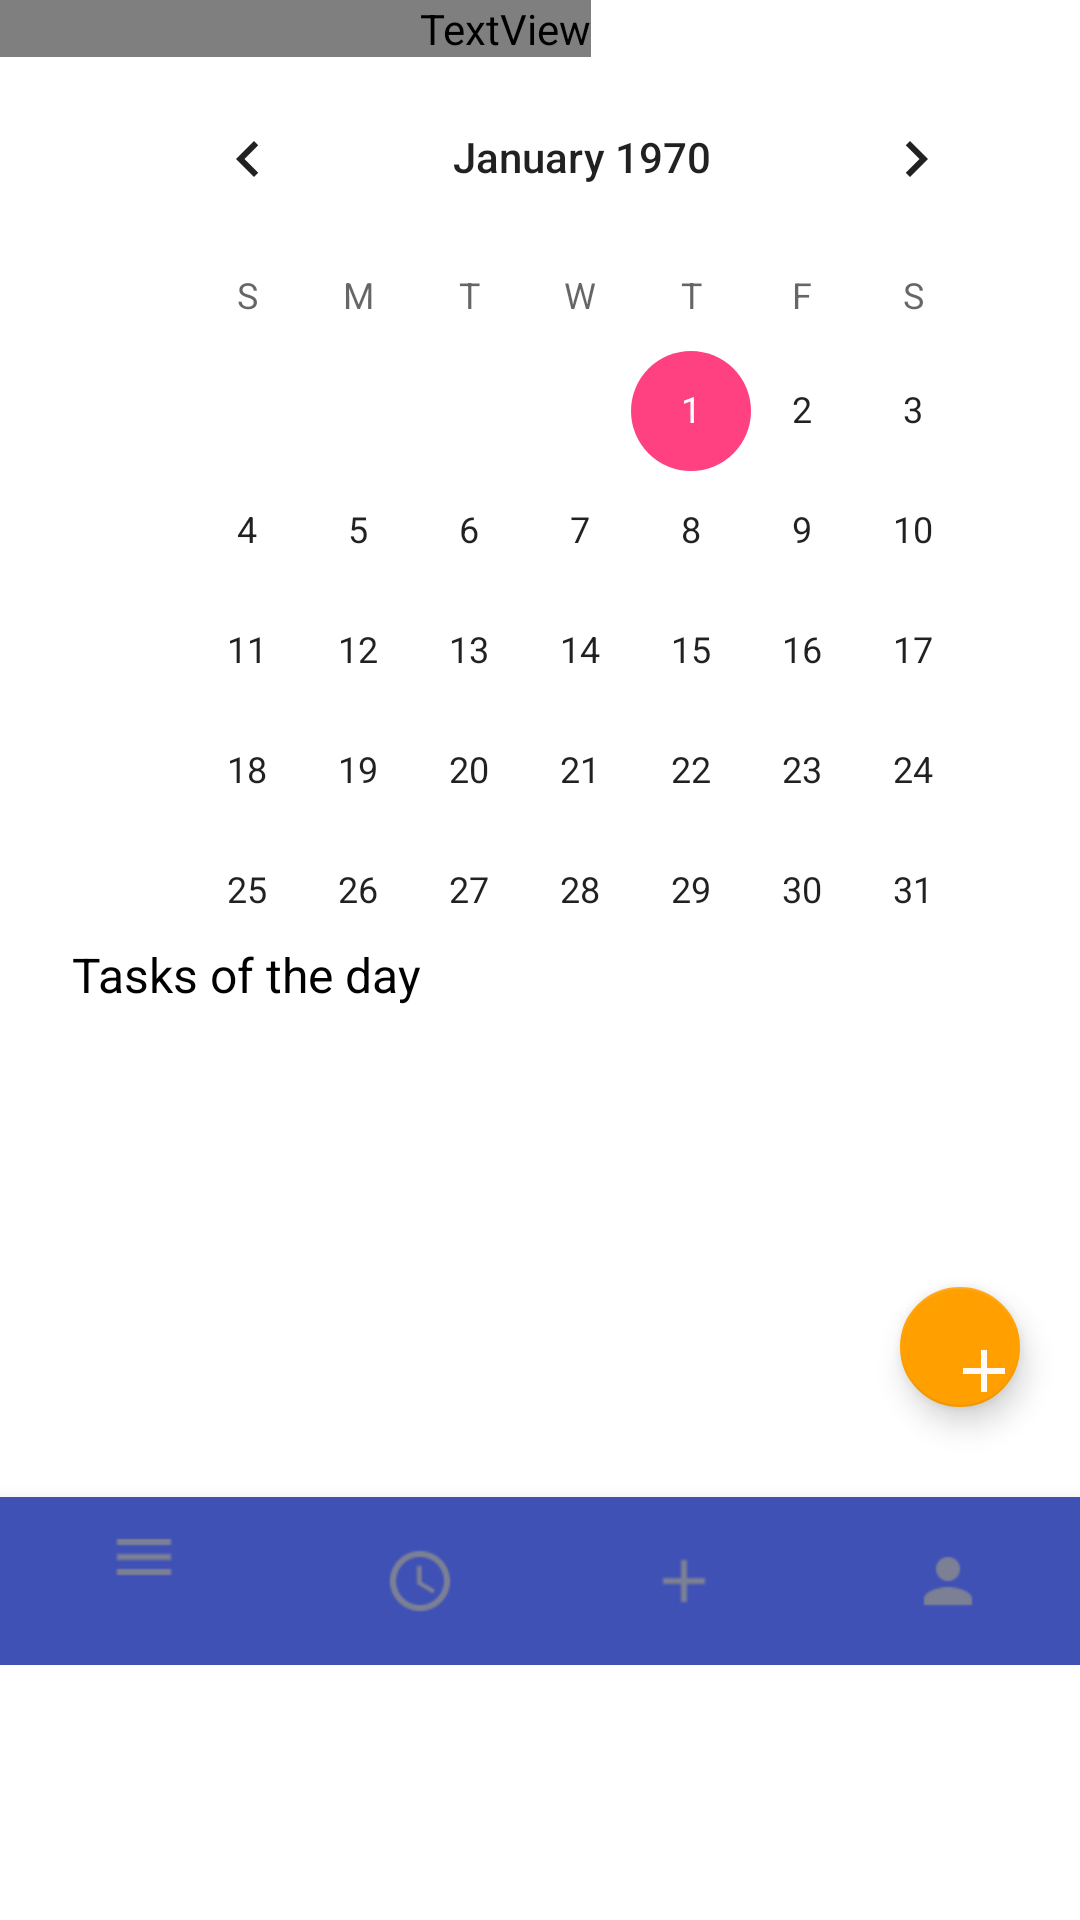

Named icons in this screenshot (1080x1920) and their bounding boxes, (left=x1, top=y1, right=x2, bottom=y2):
add: (left=900, top=1287, right=1020, bottom=1407)
